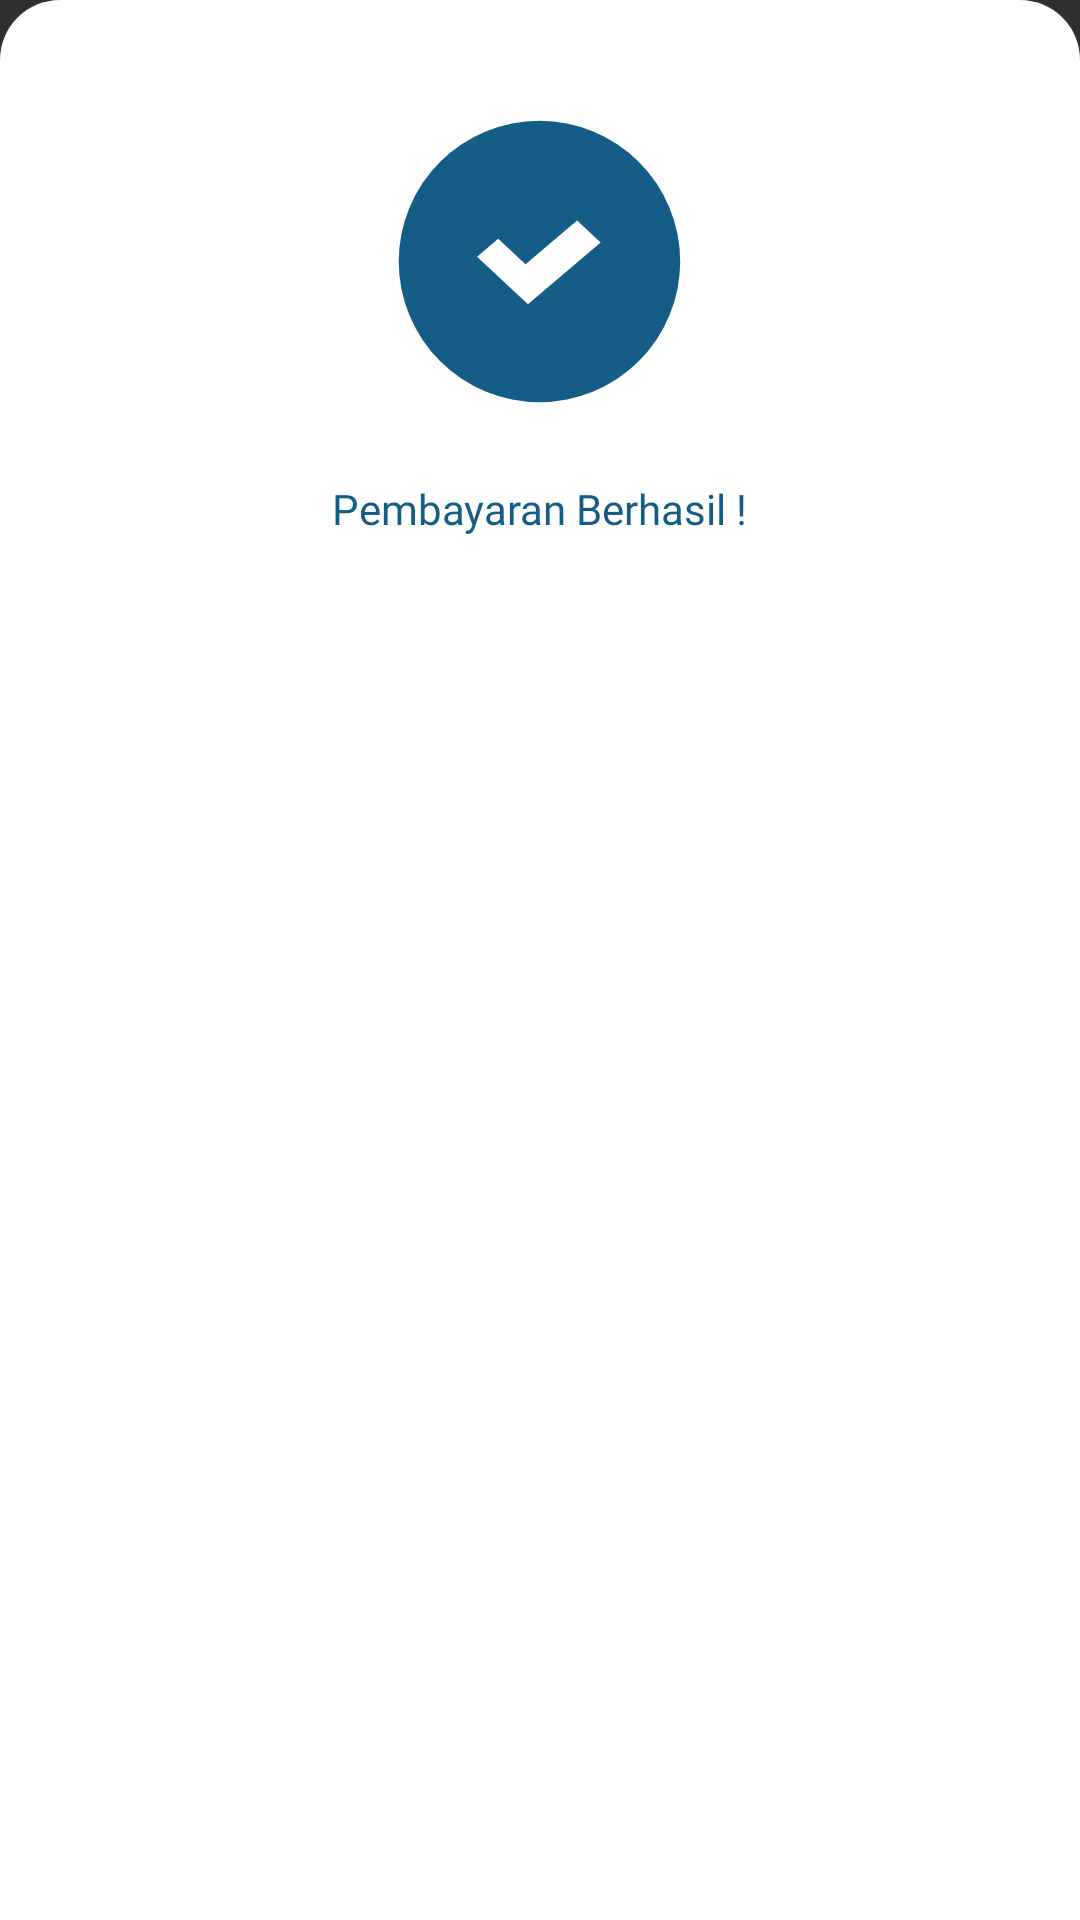

Icon bounding boxes for this 1080w x 1920h phone screenshot, format {"left": x1, "top": y1, "right": x2, "bottom": y2}:
konfirmasi: {"left": 398, "top": 120, "right": 681, "bottom": 403}
